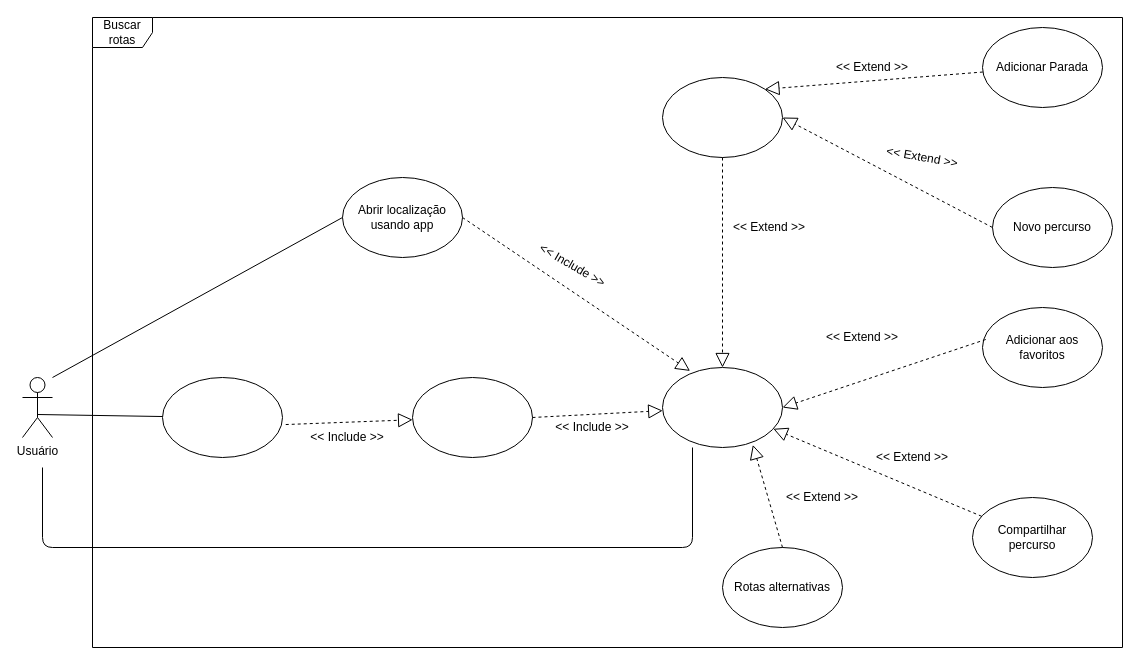
Image size: 1140x665. Some labels were removed from this diagram. The box of each missing label's shape, as (x1, y1, x2, y2) in pixels:
Opções de Navegação: (662, 76, 782, 158)
Pesquisar: (162, 376, 282, 458)
Rota: (662, 366, 782, 448)
Rotas: (412, 376, 532, 458)
